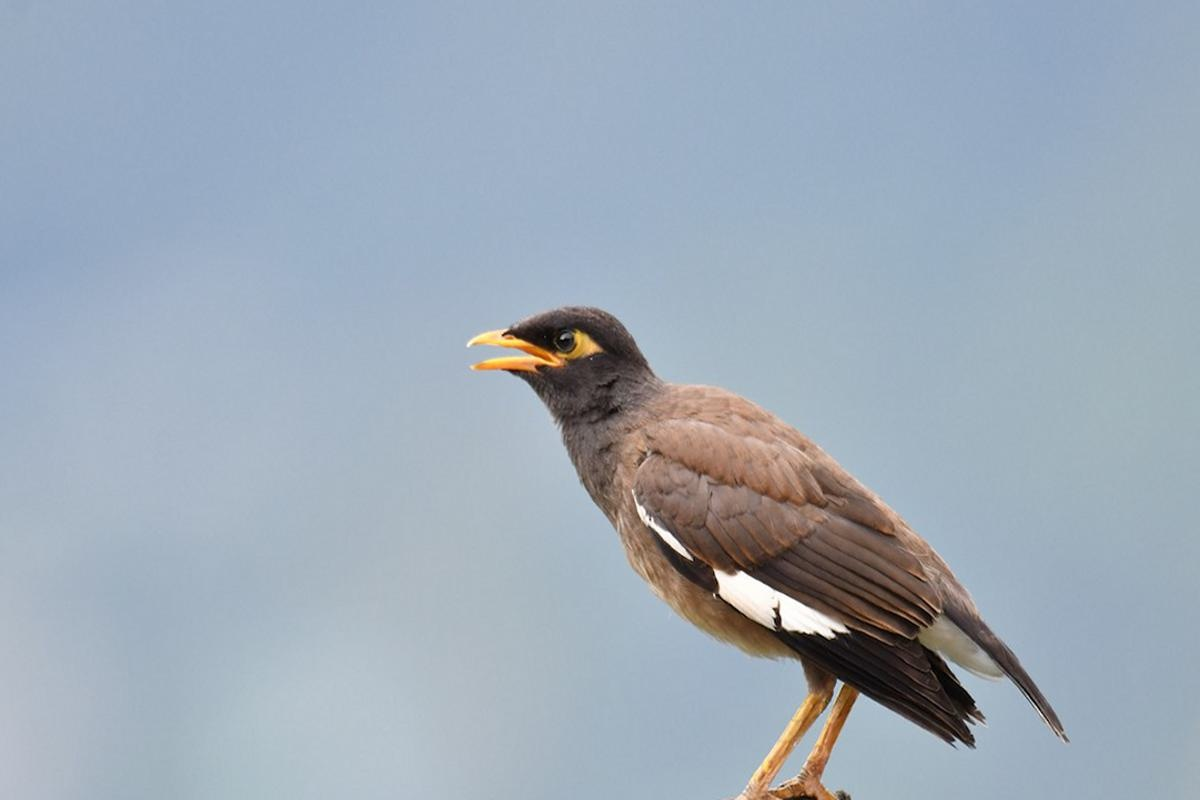myna: (441, 273, 999, 800)
